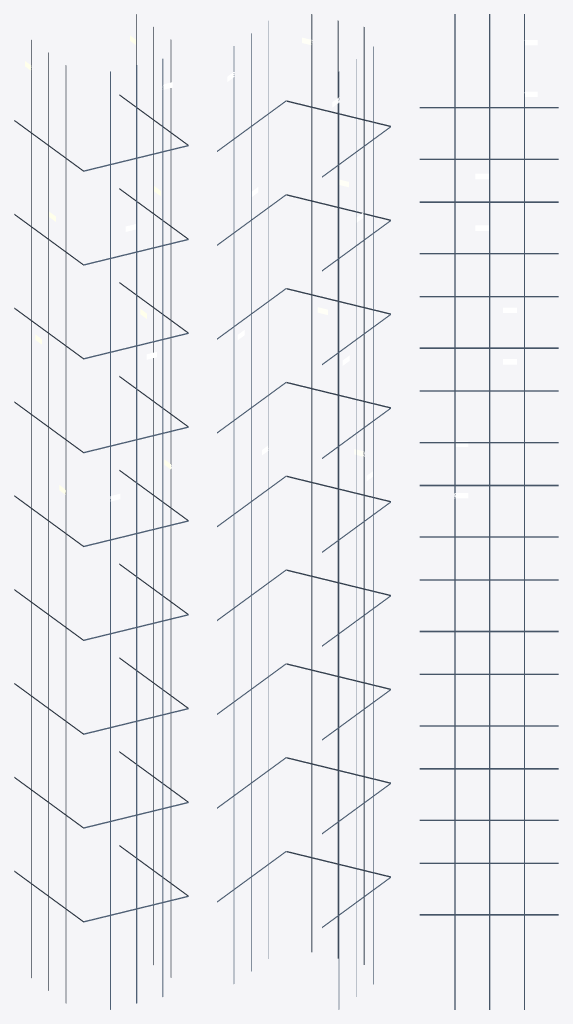
File: SM_MM_W06_Facade.fbx
3 views of the same model, side by side, from view 1: azimuth 30°, elevation 25°; view 2: azimuth 150°, elevation 25°; view 3: azimuth 270°, elevation 25° (orthographic).
Visible parts, largest first — view 1: SM_MM_W06_Facade; view 2: SM_MM_W06_Facade; view 3: SM_MM_W06_Facade.
Boxes of the visible parts, <box> form: SM_MM_W06_Facade: <box>14,14,188,1009</box>; SM_MM_W06_Facade: <box>217,14,390,1009</box>; SM_MM_W06_Facade: <box>419,14,558,1009</box>.
Size of the model in its own units: 14.05 by 16.03 by 120.
